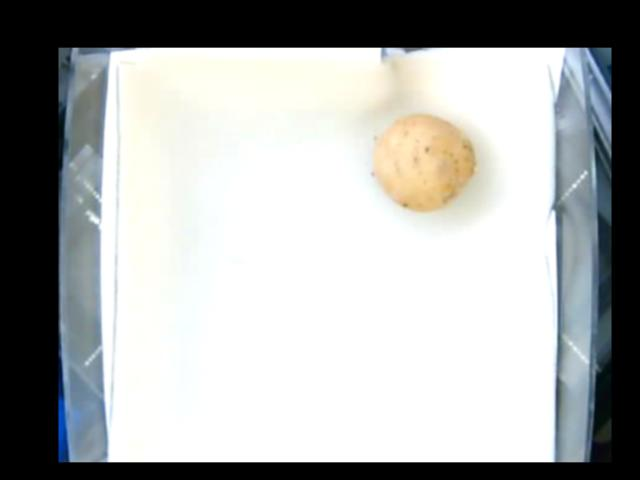Potato: (368, 115, 475, 209)
